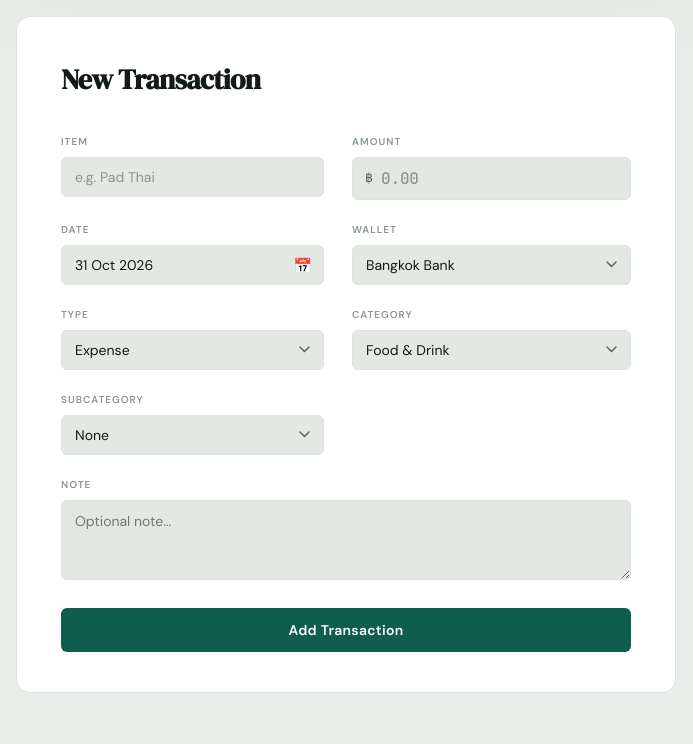
Test: shows success message and resets form after submit
The image size is (693, 744).
In the field labelled "Item": (192, 177) 61,157 -> 324,197, type "Food"
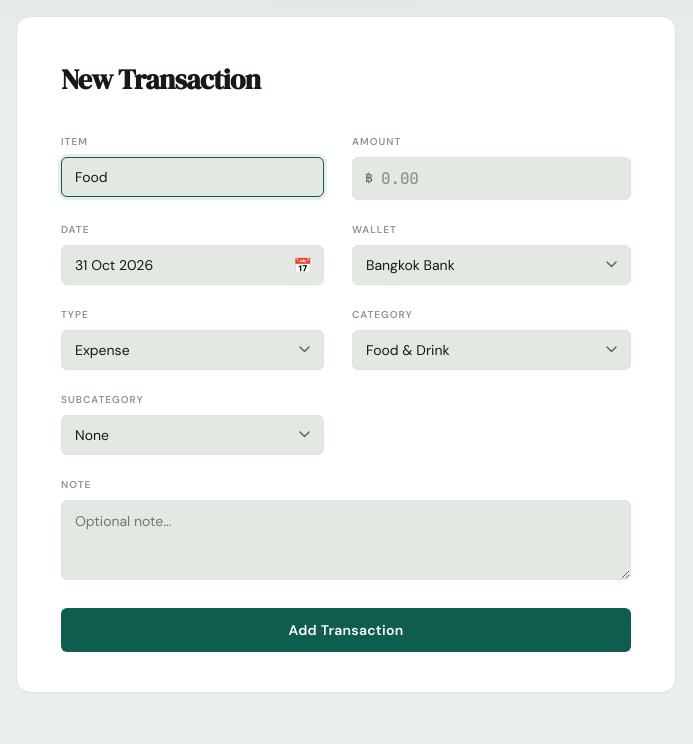
In the number field labelled "Amount": (492, 178) 352,157 -> 631,200, type "150"
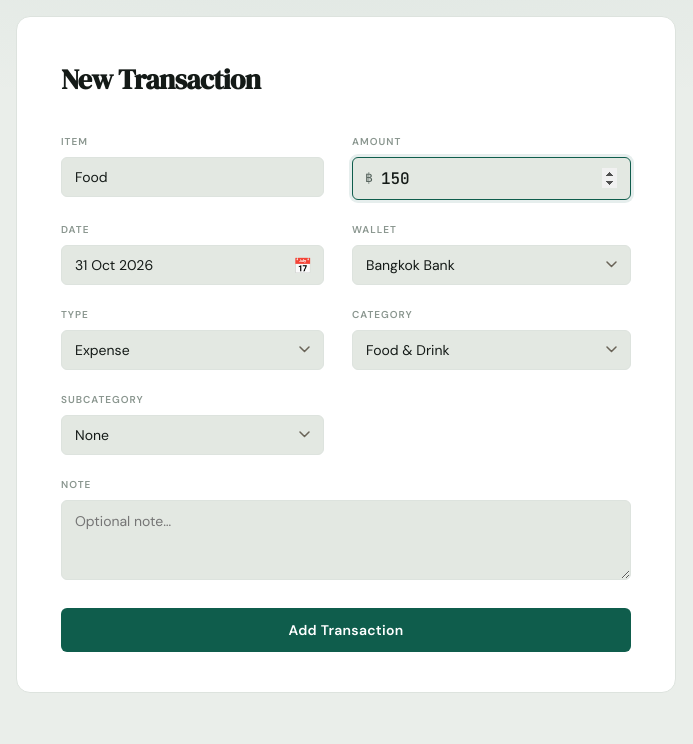
Click the button "Add Transaction": (346, 630) 61,608 -> 631,652
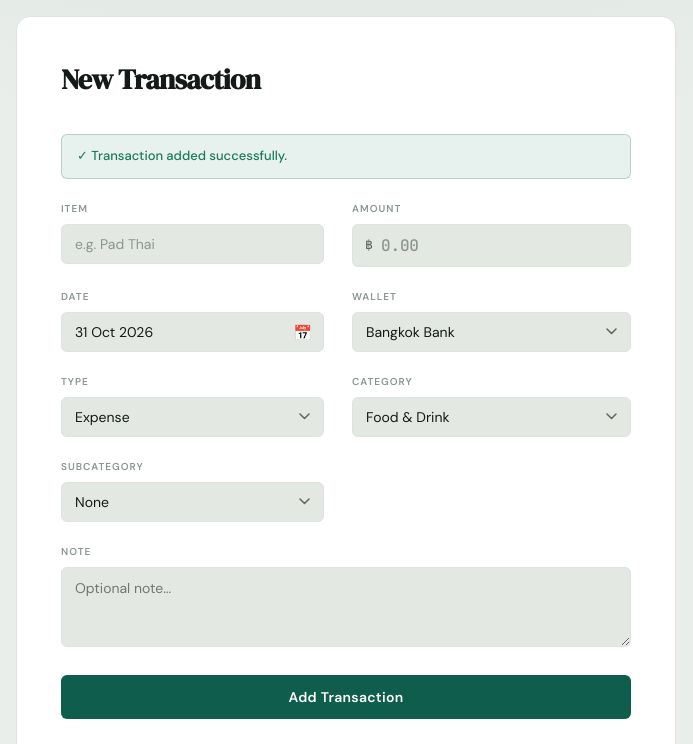
Expected: the message shows "Transaction added successfully", 77,147 -> 287,164
Expected: the field labelled "Item" is empty, 61,224 -> 324,264
